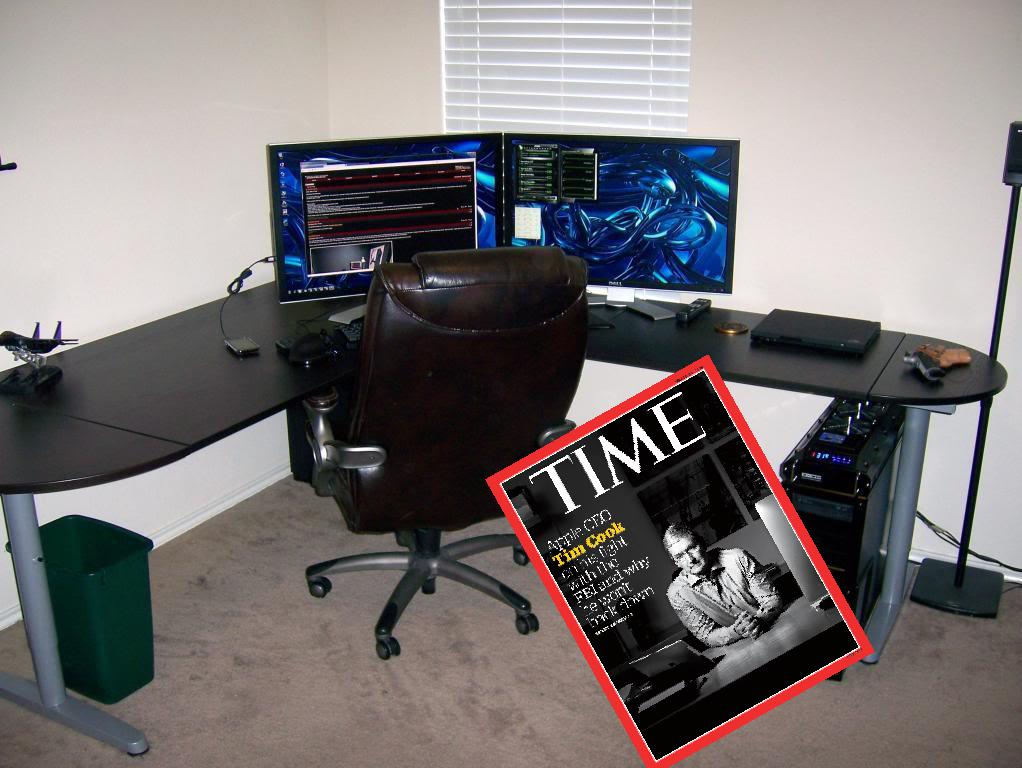times: (482, 353, 878, 768)
